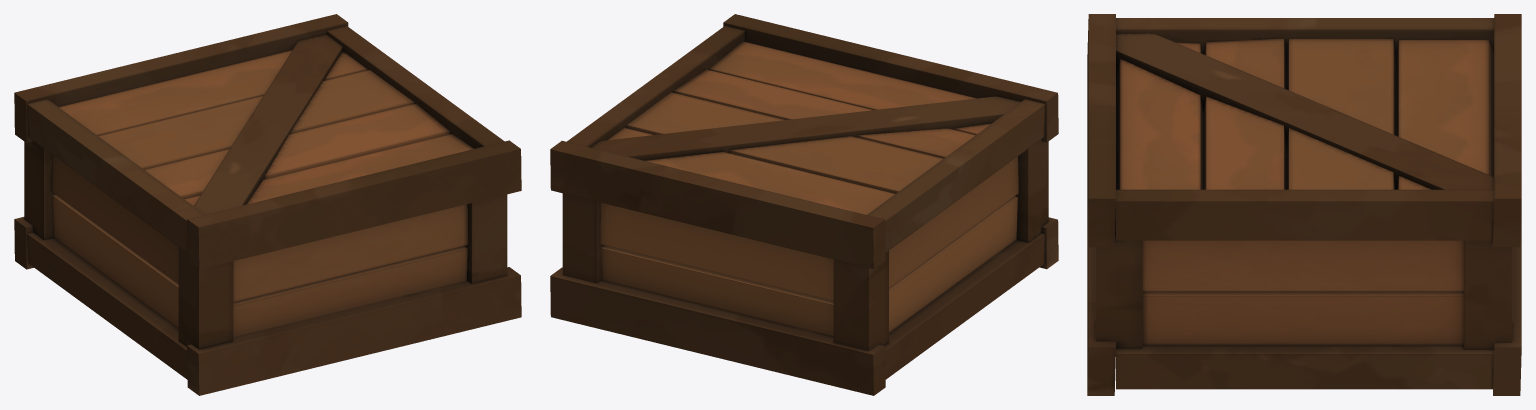
File: CaisseGrande_A.FBX
3 views of the same model, side by side, from view 1: azimuth 30°, elevation 25°; view 2: azimuth 150°, elevation 25°; view 3: azimuth 270°, elevation 25° (orthographic). The views are drawn at different scales.
Parts seen in each view (by area): view 1: Caisse_GrandeA; view 2: Caisse_GrandeA; view 3: Caisse_GrandeA.
Boxes of the visible parts, left/top/right/bottom form: Caisse_GrandeA: left=14, top=14, right=521, bottom=395; Caisse_GrandeA: left=550, top=14, right=1058, bottom=395; Caisse_GrandeA: left=1087, top=14, right=1521, bottom=395.
Size of the model in its own units: 3.98 by 1.98 by 3.95.
